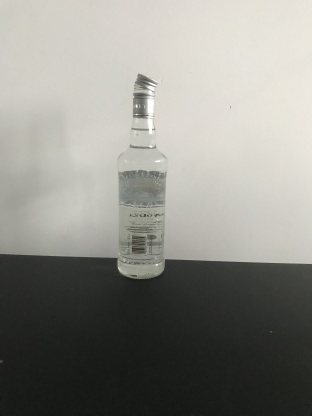nakretka: (131, 71, 158, 118)
